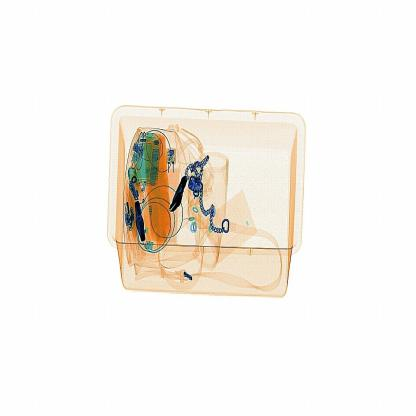knife: (172, 170, 191, 213)
